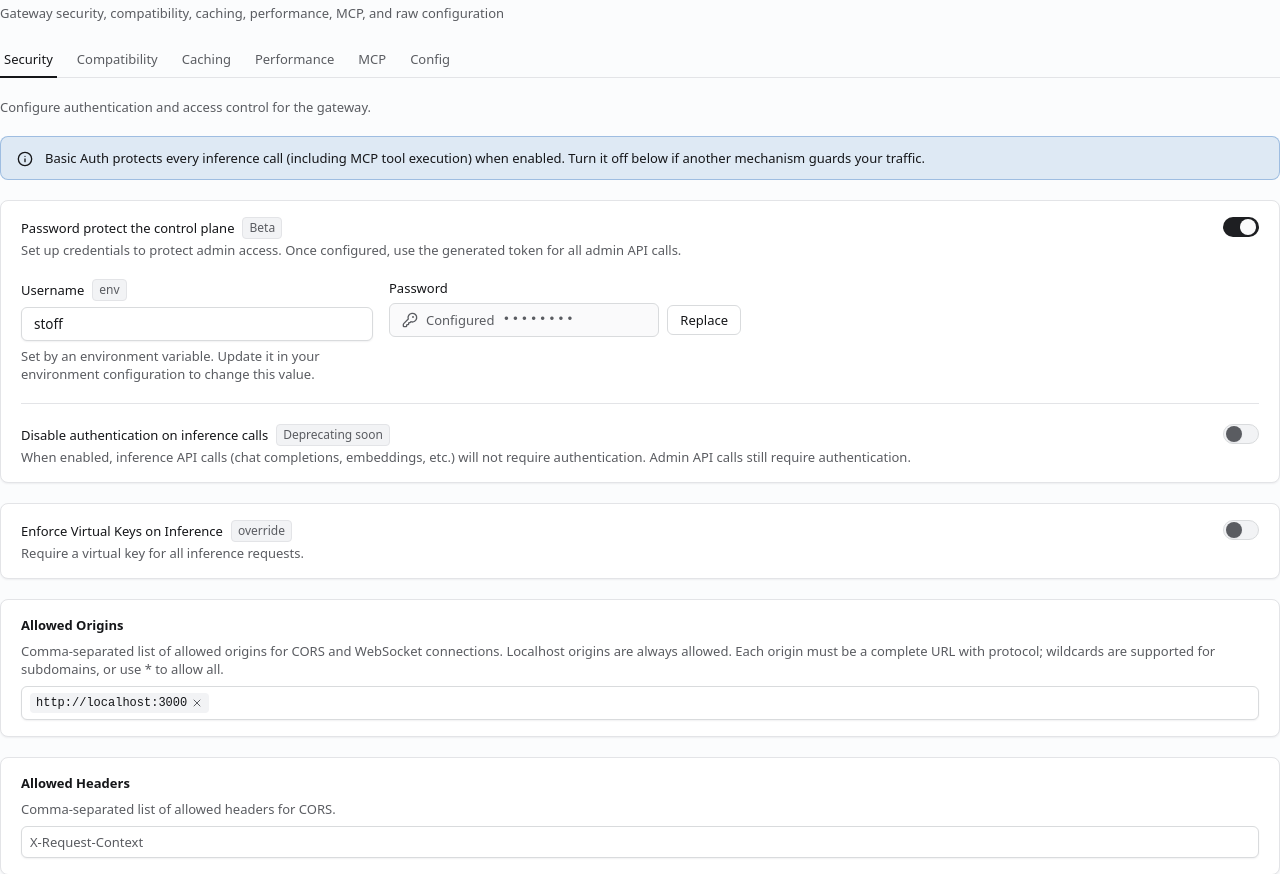
Scenario: SettingsView security (write-only password + provenance) › sends a password only when the operator re-enters one
Click the button with aria-label "Replace Password".
click(704, 320)  # box [667,305,741,335]
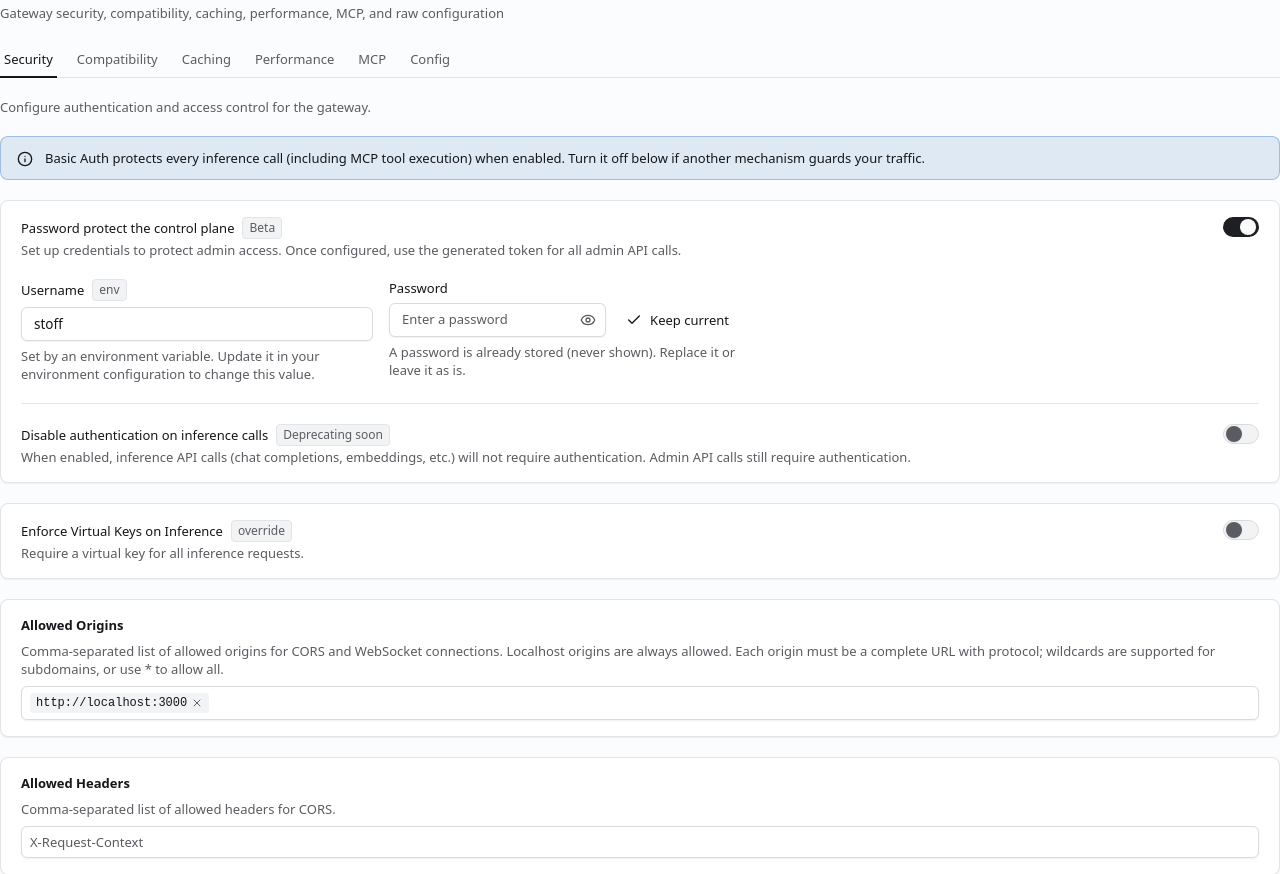
Type "new-secret" into the password field labelled "Password".
click(498, 320); type("new-secret")  # box [389,303,606,337]
(page scrolled)
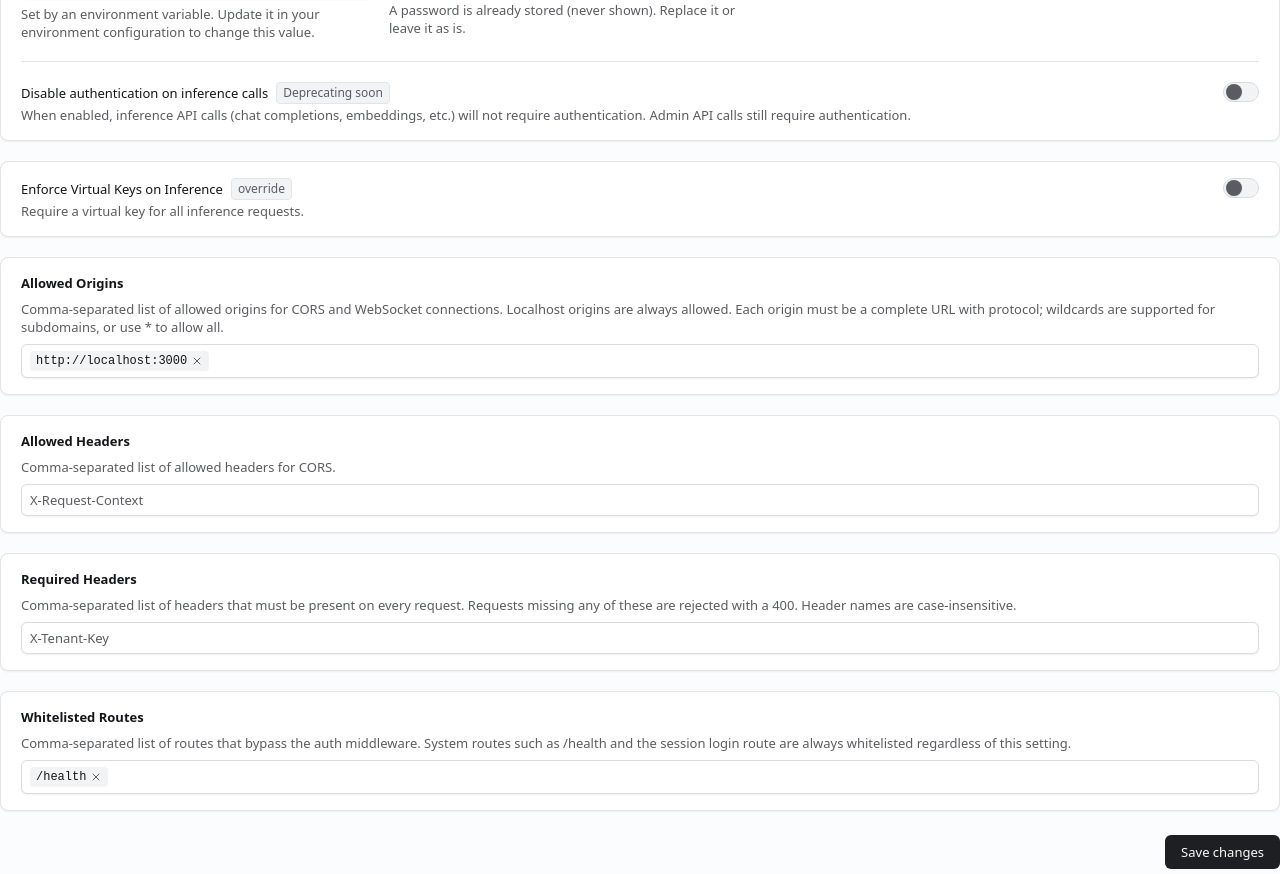
Click the button "Save changes".
click(1223, 852)  # box [1165,835,1279,869]
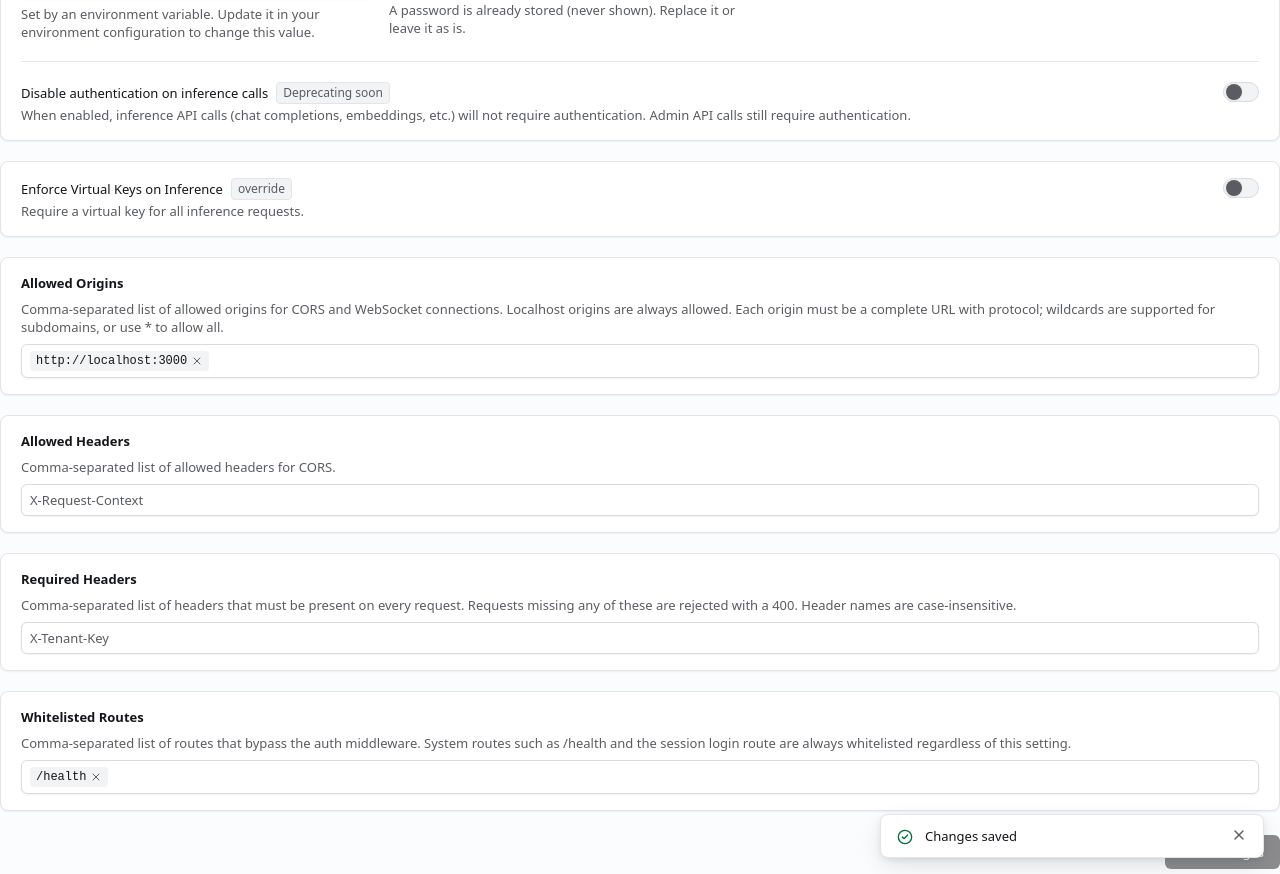
Result: the text "Changes saved" is shown at [925,827,1017,845]
